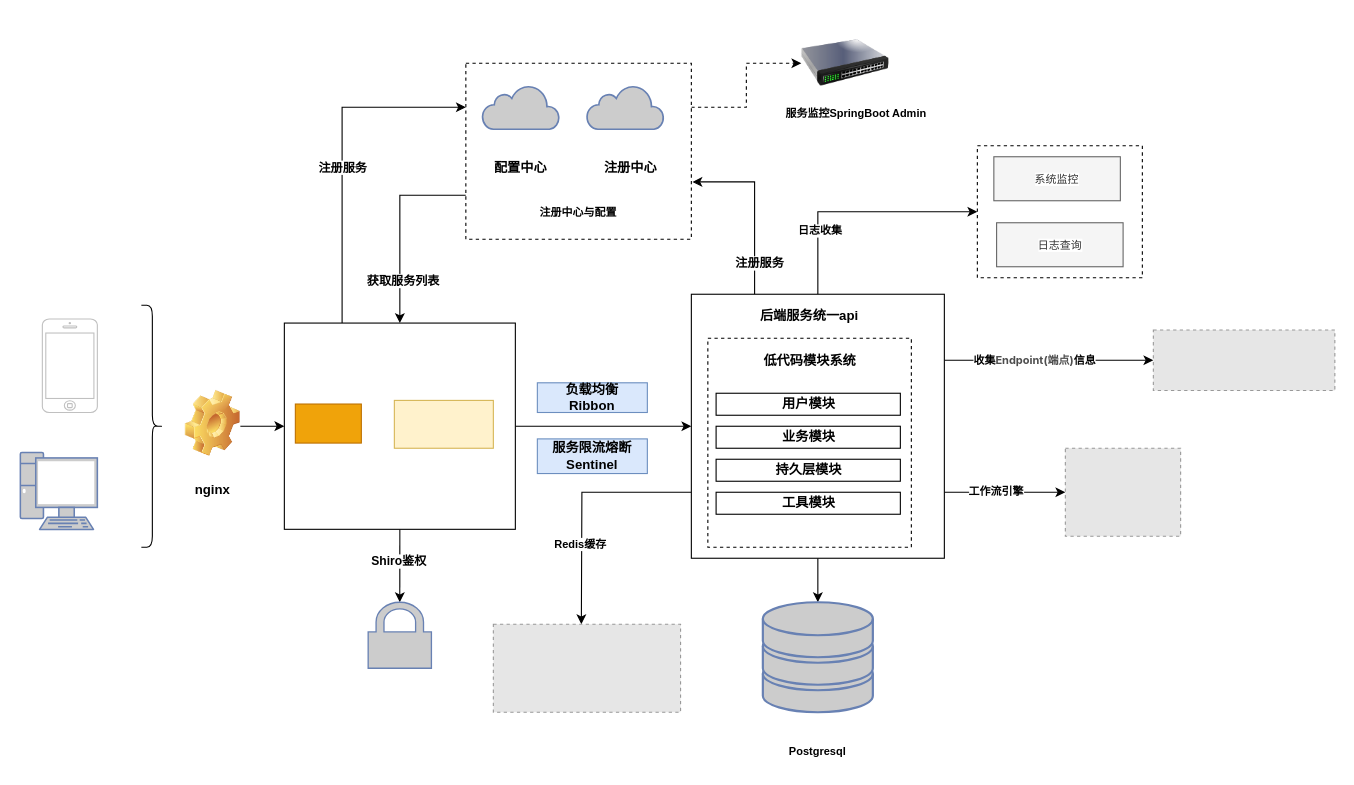
The diagram is 1354 pixels wide and 785 high, and some of its shapes have lost their labels. Grey dashed boxes stand in for pictures. Here are the shapes that lost their labels. From the top down, the centre of each, then its label:
(x=327, y=423): JWT
(x=443, y=423): GetWay(网关)
